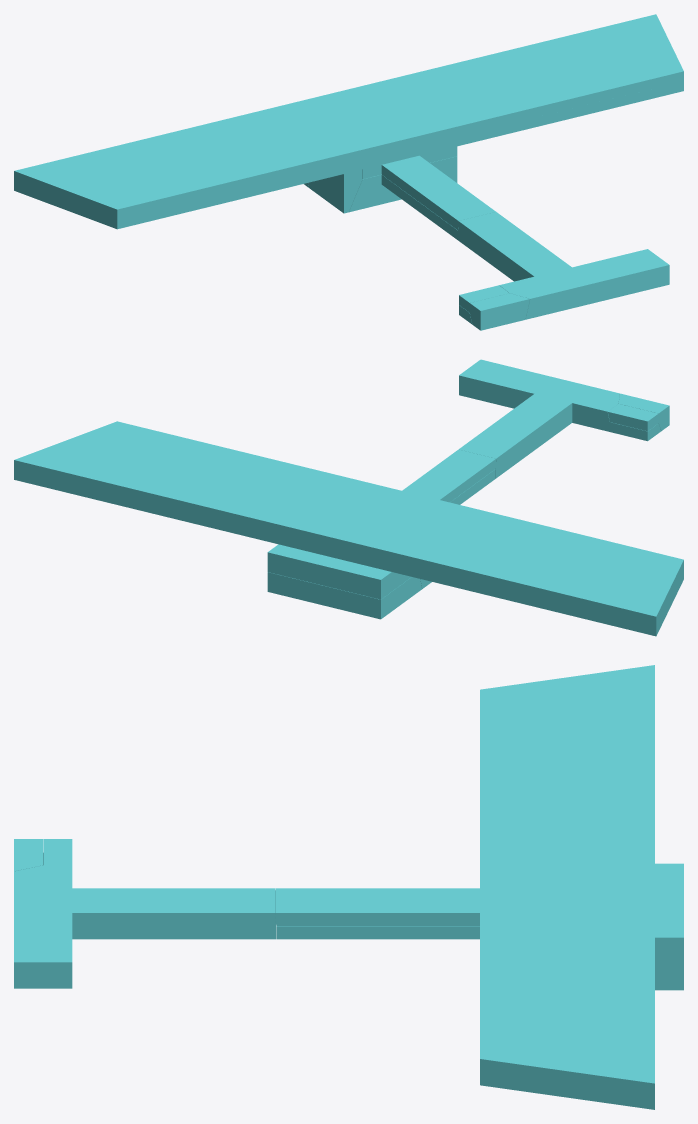
The model's file is BleriotXIMonoplaneCyanDebris.dae.
3 views of the same model, one above another, from view 1: azimuth 30°, elevation 25°; view 2: azimuth 150°, elevation 25°; view 3: azimuth 270°, elevation 25° (orthographic). The views are drawn at different scales.
Parts seen in each view (by area): view 1: Cube.008_cell.008, Cube.008_cell.002, Cube.008_cell.012, Cube.008_cell.009, Cube.008_cell.013, Cube.008_cell.006, Cube.008_cell.003, Cube.008_cell.015, Cube.008_cell.010, Cube.008_cell.014; view 2: Cube.008_cell.008, Cube.008_cell.002, Cube.008_cell.012, Cube.008_cell.009, Cube.008_cell, Cube.008_cell.013, Cube.008_cell.010, Cube.008_cell.006, Cube.008_cell.011, Cube.008_cell.015; view 3: Cube.008_cell.008, Cube.008_cell.002, Cube.008_cell.009, Cube.008_cell.013, Cube.008_cell.012, Cube.008_cell.015, Cube.008_cell.006, Cube.008_cell.010, Cube.008_cell.
Part boxes in pixels (x1,y1,x2,y2): Cube.008_cell.008: [14, 14, 683, 229]; Cube.008_cell.002: [139, 61, 461, 153]; Cube.008_cell.012: [499, 249, 669, 319]; Cube.008_cell.009: [458, 212, 571, 281]; Cube.008_cell.013: [381, 155, 495, 229]; Cube.008_cell.006: [469, 293, 529, 330]; Cube.008_cell.003: [349, 156, 457, 212]; Cube.008_cell.015: [381, 175, 457, 239]; Cube.008_cell.010: [459, 285, 509, 312]; Cube.008_cell.014: [362, 146, 457, 178]; Cube.008_cell.008: [14, 421, 683, 636]; Cube.008_cell.002: [208, 507, 533, 606]; Cube.008_cell.012: [459, 359, 619, 431]; Cube.008_cell.009: [459, 394, 572, 478]; Cube.008_cell: [267, 572, 421, 619]; Cube.008_cell.013: [402, 449, 496, 502]; Cube.008_cell.010: [608, 404, 658, 431]; Cube.008_cell.006: [618, 393, 669, 430]; Cube.008_cell.011: [610, 422, 661, 441]; Cube.008_cell.015: [450, 469, 495, 504]; Cube.008_cell.008: [480, 665, 654, 1109]; Cube.008_cell.002: [582, 746, 683, 963]; Cube.008_cell.009: [72, 888, 275, 939]; Cube.008_cell.013: [275, 888, 479, 925]; Cube.008_cell.012: [14, 865, 72, 988]; Cube.008_cell.015: [276, 926, 479, 939]; Cube.008_cell.006: [14, 839, 42, 871]; Cube.008_cell.010: [43, 839, 72, 865]; Cube.008_cell: [655, 964, 683, 990].
Bounding box in the file's own units: 6.8 × 4.6 × 0.6.
